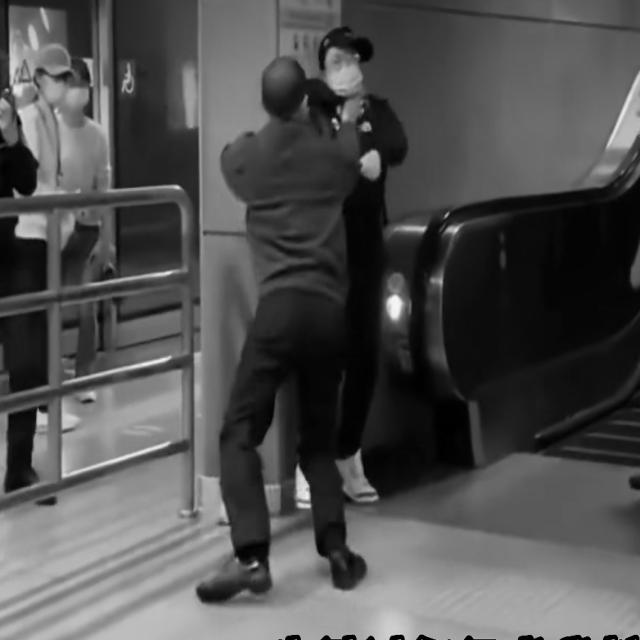fight: (217, 19, 404, 230)
nofight: (19, 50, 81, 450)
